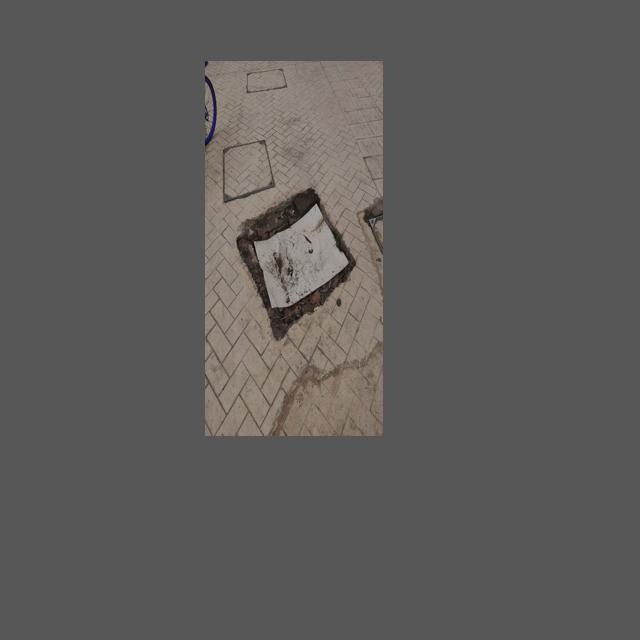broke: (233, 177, 360, 351)
